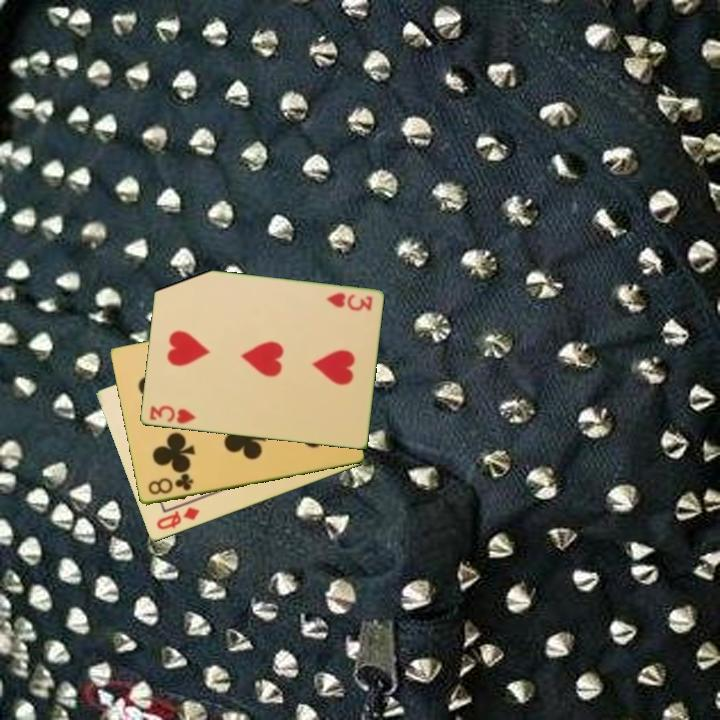3h: (322, 289, 375, 314), (146, 402, 198, 427)
8c: (144, 471, 196, 498)
Qd: (152, 504, 203, 533)
